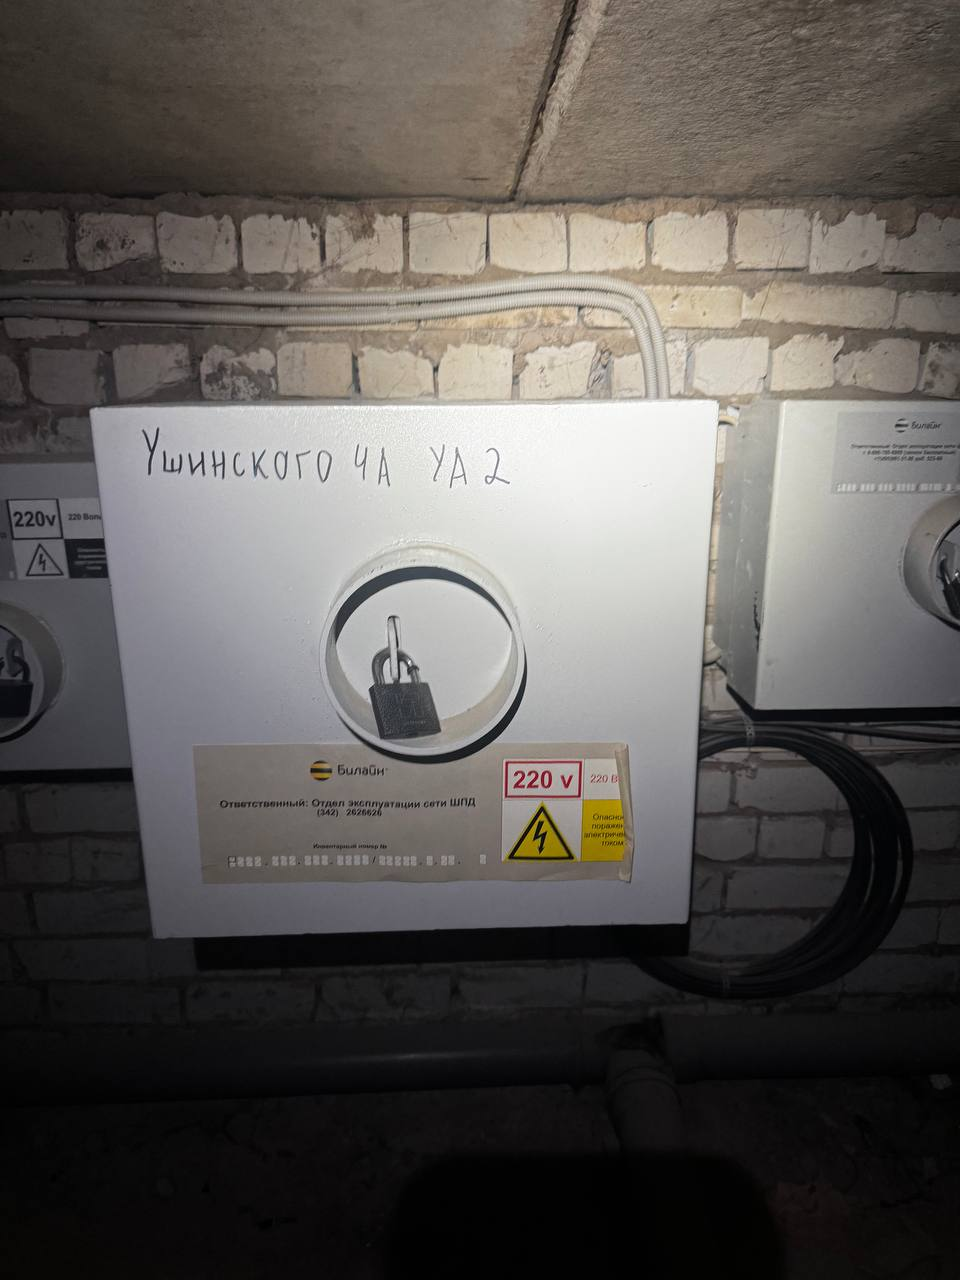shta-3: (714, 371, 956, 729)
shta-9: (70, 377, 740, 954)
